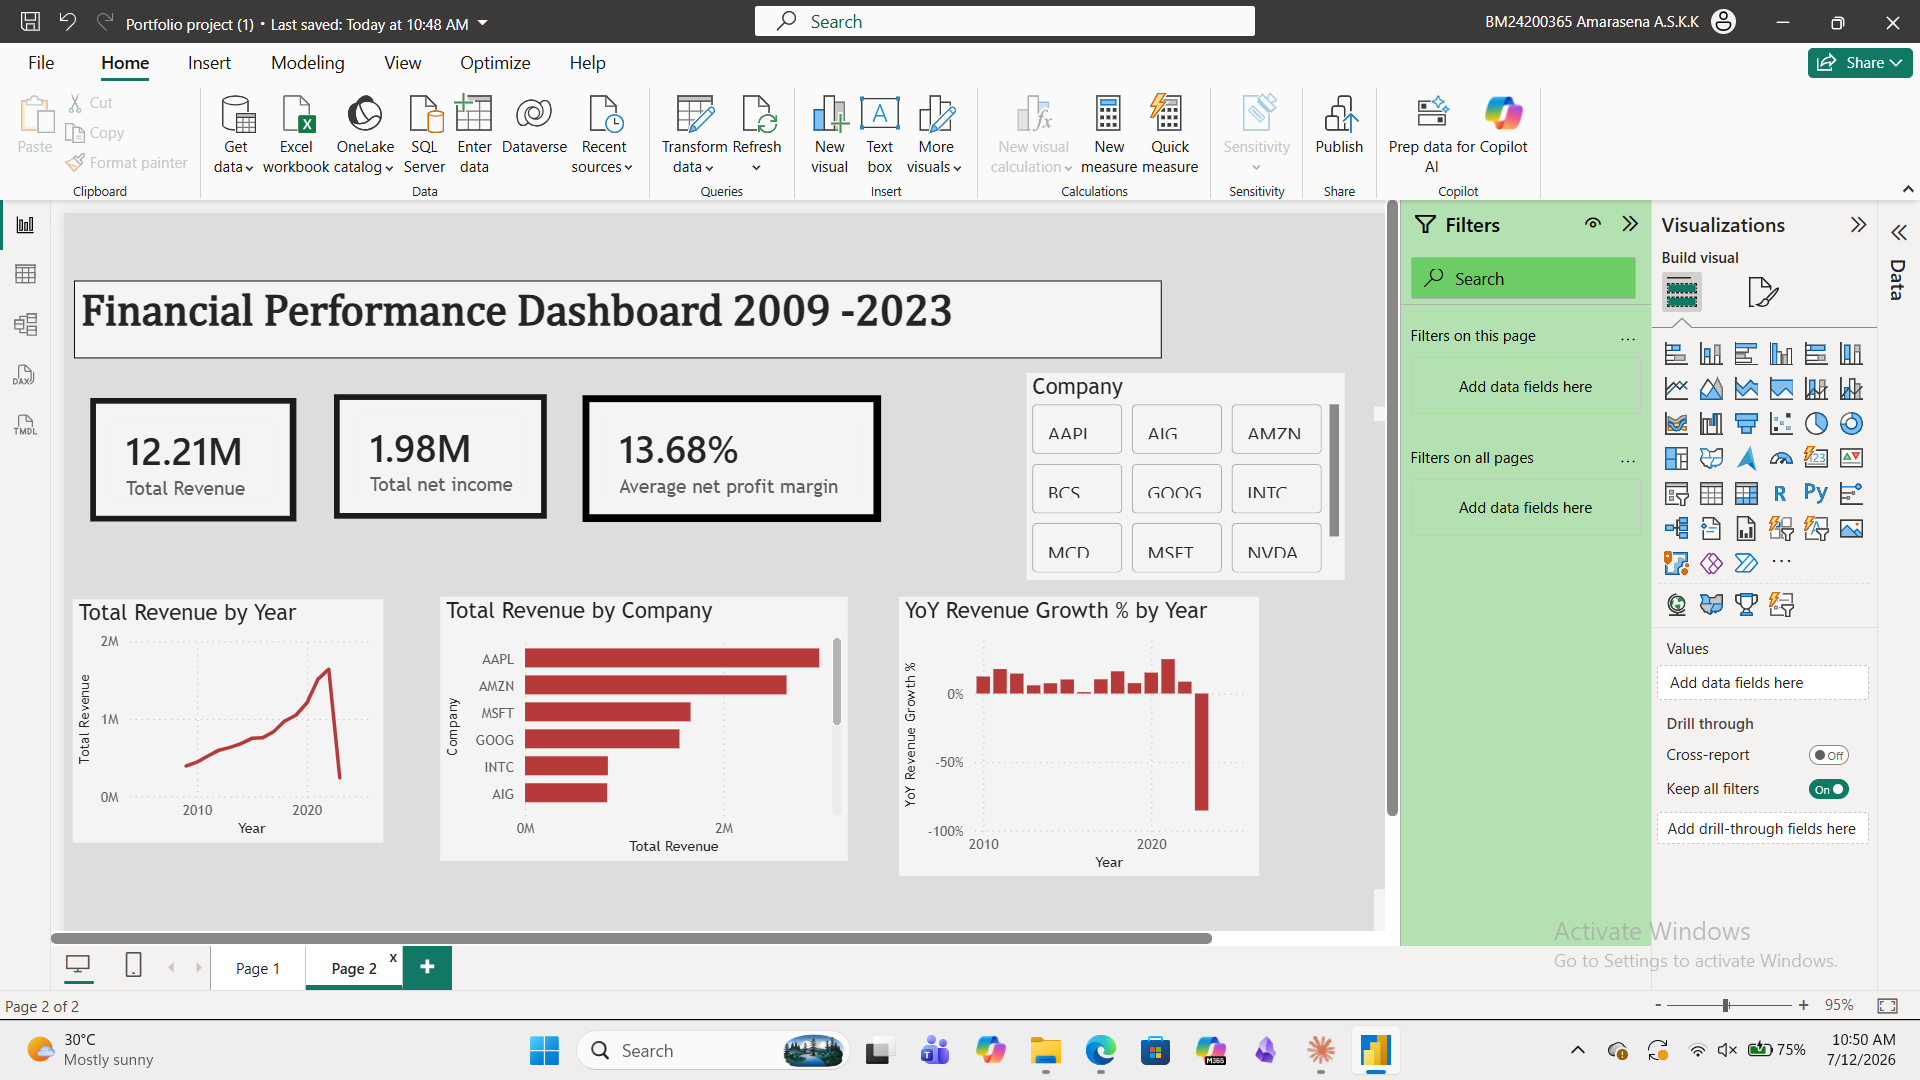

What the dashboard file says about the page in this screenshot:
{"tool":"powerbi","page":{"name":"Page 2","canvas":[1280,720],"ordinal":1},"visuals":[{"type":"cardVisual","fields":{"Data":["Financial_Statements.Total Revenue"]},"box":[22.4,156.1,173.5,104.1],"z":0},{"type":"cardVisual","fields":{"Data":["Financial_Statements.Total net income"]},"box":[227.6,153.1,179.6,105.1],"z":1000},{"type":"cardVisual","fields":{"Data":["Financial_Statements.Average net profit margin"]},"box":[436.7,154.1,251,106.1],"z":2000},{"type":"lineChart","fields":{"Category":["Dim_Date.Year"],"Y":["Financial_Statements.Total Revenue"]},"box":[7.7,325,261.5,204.8],"z":3000},{"type":"barChart","fields":{"Category":["Financial_Statements.Company"],"Y":["Financial_Statements.Total Revenue"]},"box":[317.3,323.1,343.3,222.1],"z":4000},{"type":"textbox","box":[1103.1,569.4,39.8,39.8],"z":5000},{"type":"textbox","box":[1103.1,163.3,39.8,12.2],"z":7000},{"type":"textbox","box":[1123.5,0,19.4,18.4],"z":8000},{"type":"columnChart","fields":{"Category":["Dim_Date.Year"],"Y":["Financial_Statements.YoY Revenue Growth %"]},"box":[702.9,323.1,302.9,235.6],"z":9000},{"type":"textbox","box":[8.2,57.1,916.3,65.3],"z":10000},{"type":"advancedSlicerVisual","fields":{"Values":["Dim_company.Company"]},"box":[810.2,134.7,268.4,174.5],"z":10500}]}

Visuals, with their boxes on the page's 1280x720 design canvas (x1, y1, x2, y2). These are canvas units, not pixel positions in the 1920x1080 screenshot, which may show the page scaled, cropped or inside an application window:
cardVisual - Financial_Statements.Total Revenue: locate(22, 156, 196, 260)
cardVisual - Financial_Statements.Total net income: locate(228, 153, 407, 258)
cardVisual - Financial_Statements.Average net profit margin: locate(437, 154, 688, 260)
lineChart - Dim_Date.Year x Financial_Statements.Total Revenue: locate(8, 325, 269, 530)
barChart - Financial_Statements.Company x Financial_Statements.Total Revenue: locate(317, 323, 661, 545)
textbox: locate(1103, 569, 1143, 609)
textbox: locate(1103, 163, 1143, 176)
textbox: locate(1124, 0, 1143, 18)
columnChart - Dim_Date.Year x Financial_Statements.YoY Revenue Growth %: locate(703, 323, 1006, 559)
textbox: locate(8, 57, 924, 122)
advancedSlicerVisual - Dim_company.Company: locate(810, 135, 1079, 309)
